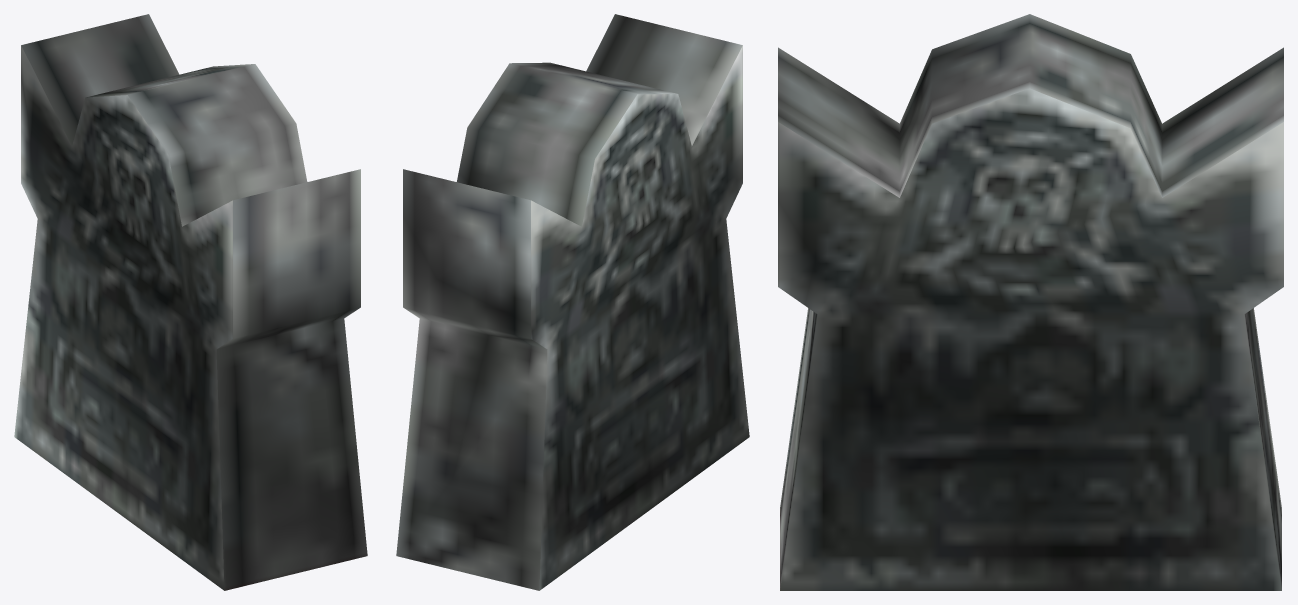
Rendered from tombstone04.glb.
3 views of the same model, side by side, from view 1: azimuth 30°, elevation 25°; view 2: azimuth 150°, elevation 25°; view 3: azimuth 270°, elevation 25° (orthographic). The views are drawn at different scales.
Bounding box in the file's own units: 0.4878 × 1.36 × 1.25.
1 material, 1 textured.
